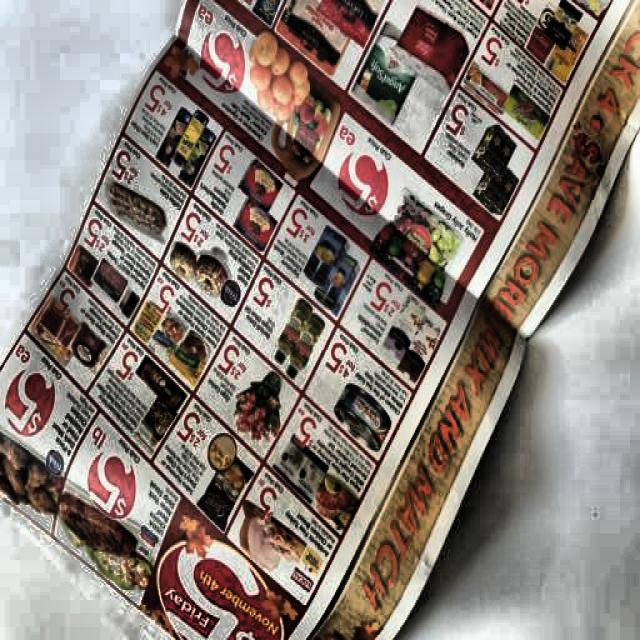paper: (5, 1, 632, 640)
